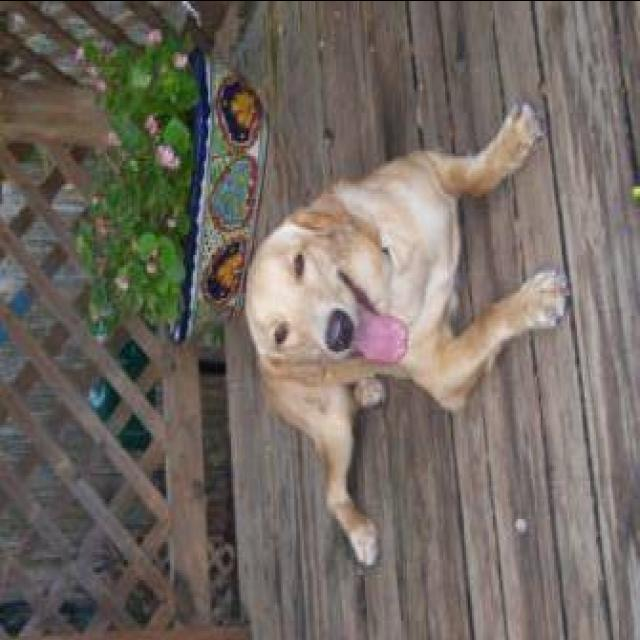dog: (210, 80, 570, 575)
